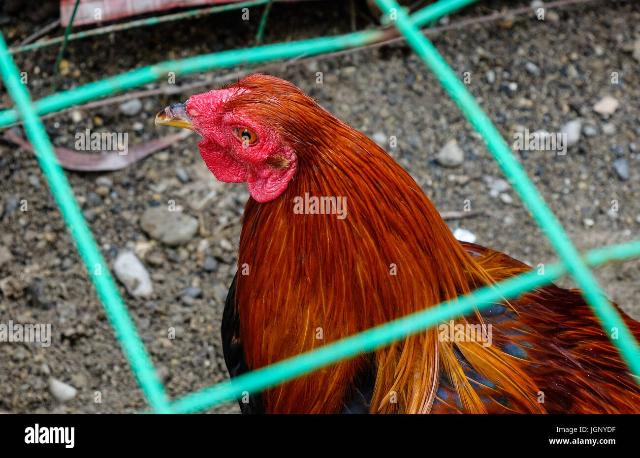Chicken: (157, 75, 640, 414)
